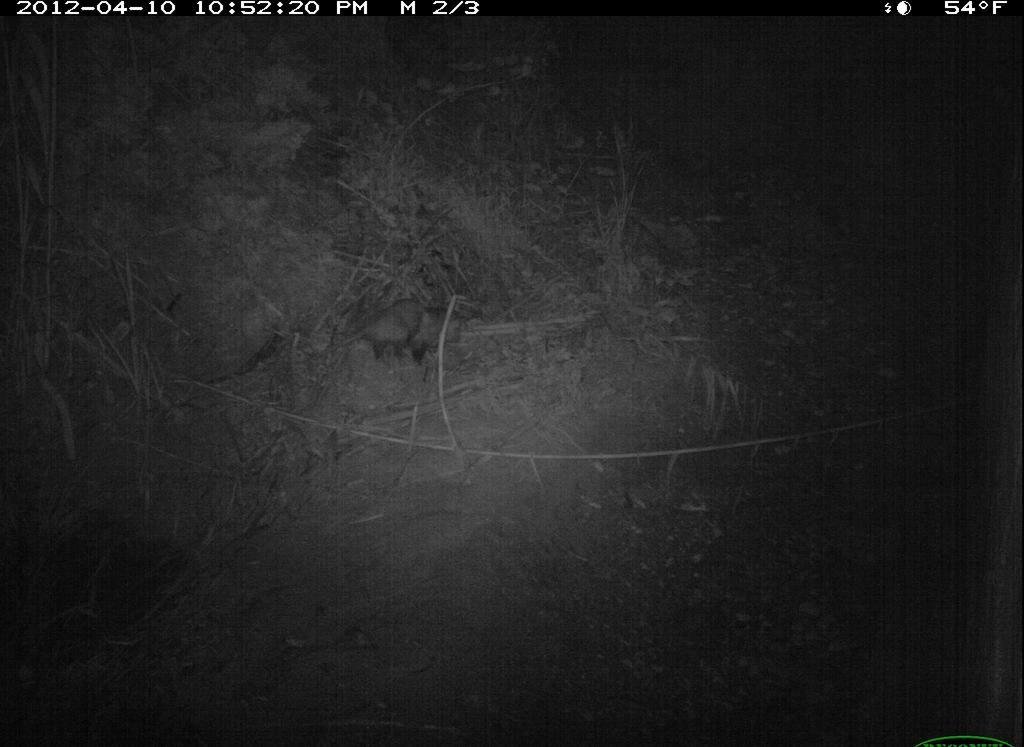opossum: (336, 287, 477, 369)
